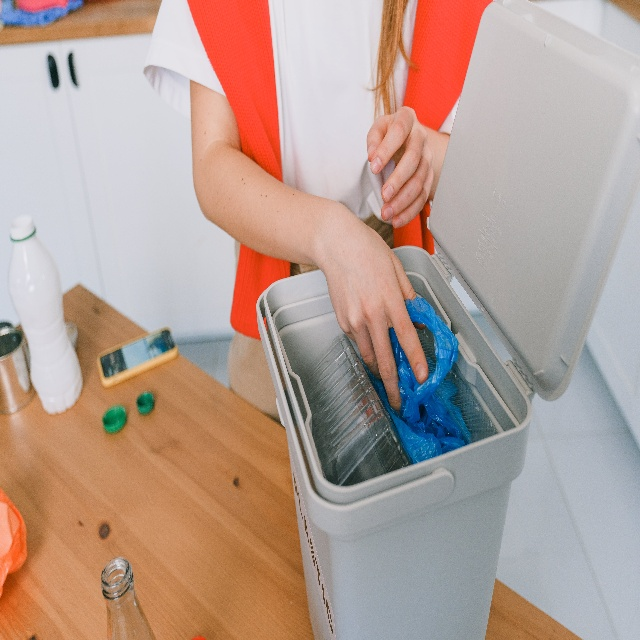Sin_guantes: (320, 207, 429, 410), (366, 106, 435, 229)
